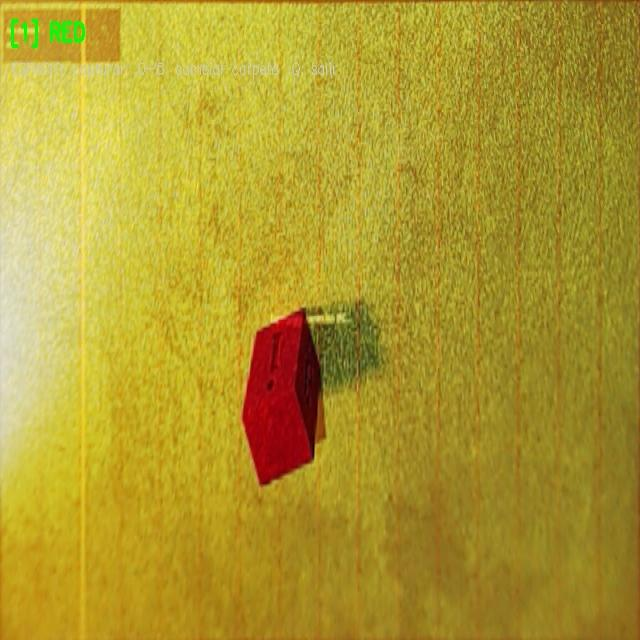red: (242, 309, 320, 484)
